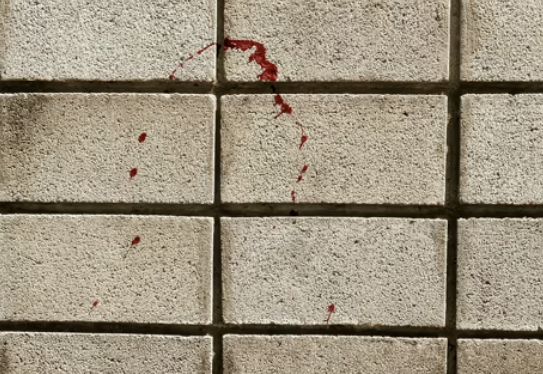blood_36.png: (86, 36, 372, 327)
